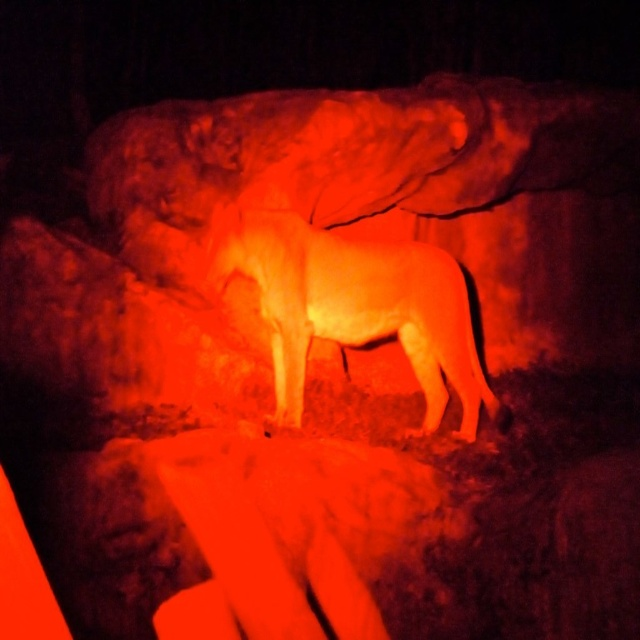Lion: (192, 202, 513, 444)
